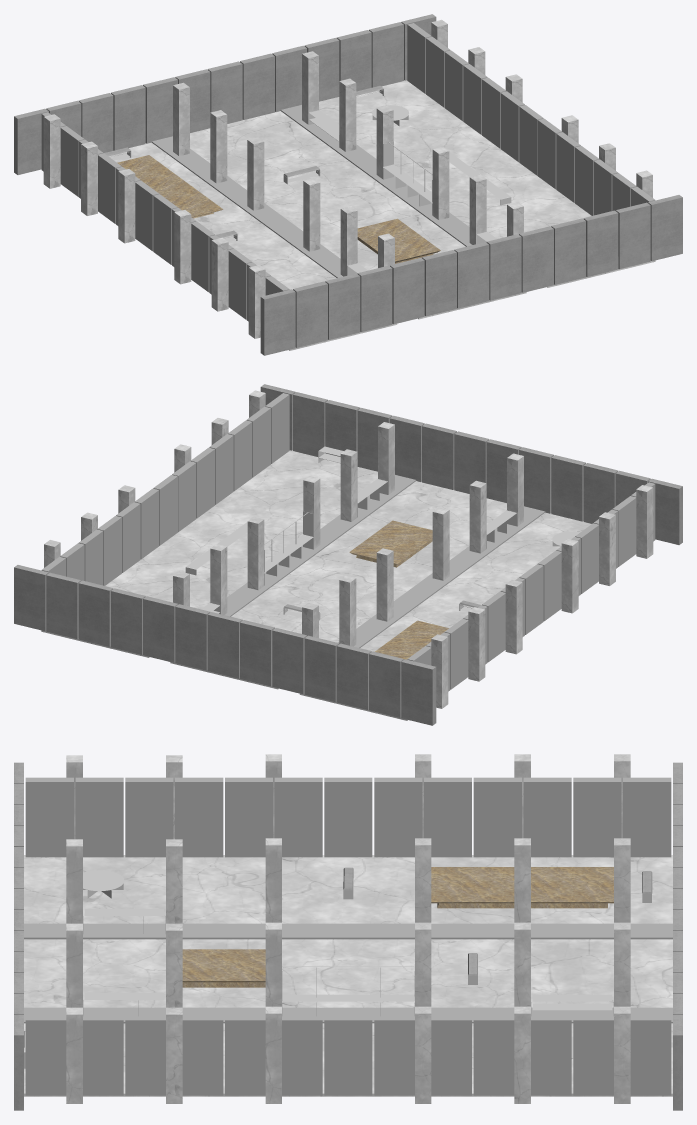
Rendered from untitled-opt-v1.glb.
The picture shows the model from 3 angles, top to bottom: view 1: azimuth 30°, elevation 25°; view 2: azimuth 150°, elevation 25°; view 3: azimuth 270°, elevation 25°; orthographic projection. The views are drawn at different scales.
Parts seen in each view (by area): view 1: KOLON, Mesh_4, Mesh_8, Mesh_6, Mesh_5; view 2: KOLON, Mesh_4, Mesh_8, Mesh_5, Mesh_6; view 3: Mesh_8, KOLON, Mesh_6, Mesh_4, Mesh_5.
Part boxes in pixels (x1=…): KOLON: x1=43, y1=19, x2=655, y2=350; Mesh_4: x1=14, y1=14, x2=682, y2=355; Mesh_8: x1=41, y1=23, x2=655, y2=322; Mesh_6: x1=117, y1=155, x2=440, y2=263; Mesh_5: x1=109, y1=89, x2=618, y2=276; KOLON: x1=41, y1=390, x2=653, y2=720; Mesh_4: x1=14, y1=384, x2=682, y2=725; Mesh_8: x1=41, y1=393, x2=655, y2=692; Mesh_5: x1=185, y1=446, x2=579, y2=620; Mesh_6: x1=349, y1=520, x2=448, y2=659; Mesh_8: x1=24, y1=777, x2=672, y2=1095; KOLON: x1=24, y1=754, x2=672, y2=1103; Mesh_6: x1=182, y1=867, x2=613, y2=987; Mesh_4: x1=14, y1=762, x2=682, y2=1110; Mesh_5: x1=24, y1=870, x2=651, y2=1068.
Bounding box in the file's own units: 38.9 × 6.2 × 40.32.
5 materials, 3 textured.
